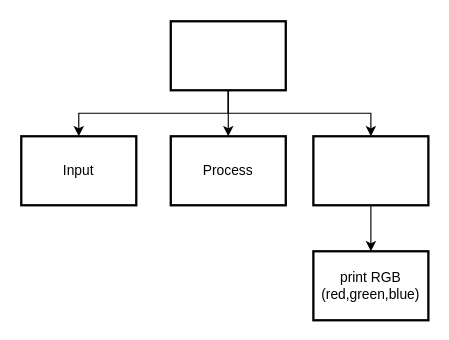
This 449x340 diagram has some shape labels left out. The centre of each missing label's shape, as x and y in pixels:
"Output" belongs at (x=370, y=170).
"red_green_blue" belongs at (x=227, y=55).
